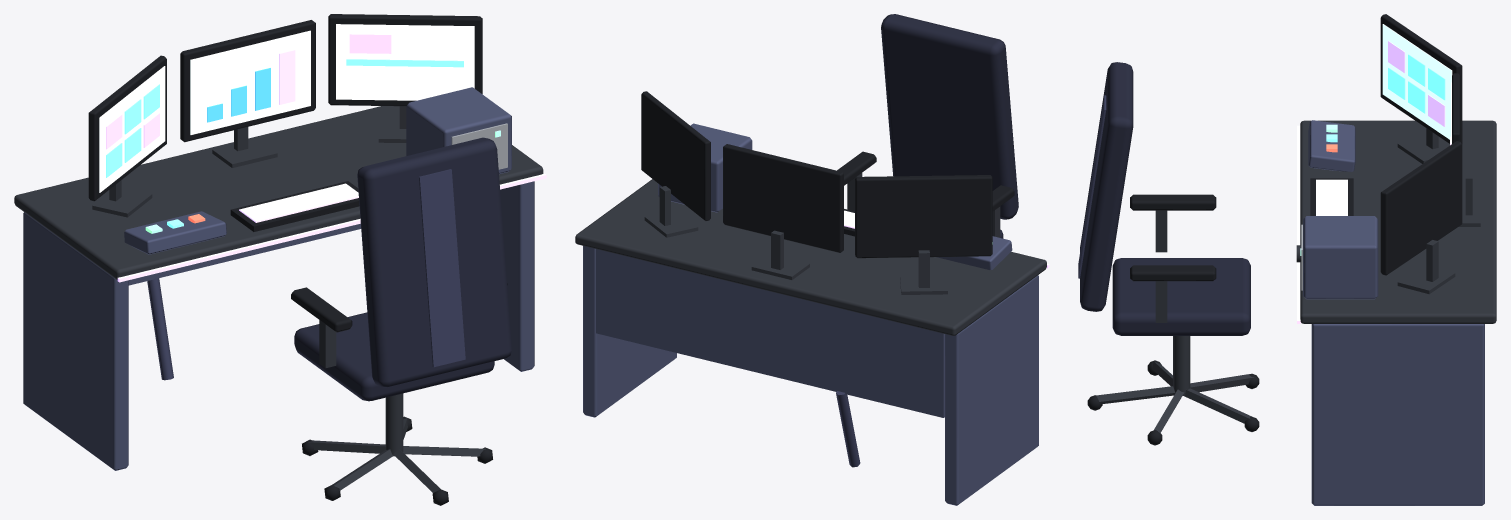
File: station_processing_2.glb
3 views of the same model, side by side, from view 1: azimuth 30°, elevation 25°; view 2: azimuth 150°, elevation 25°; view 3: azimuth 270°, elevation 25° (orthographic). The views are drawn at different scales.
Visible parts, largest first — view 1: station_processing_2; view 2: station_processing_2; view 3: station_processing_2.
Boxes of the visible parts, <box> form: station_processing_2: <box>14,14,546,505</box>; station_processing_2: <box>575,14,1049,505</box>; station_processing_2: <box>1078,14,1496,505</box>.
Size of the model in its own units: 1.6 by 1.23 by 1.45.
